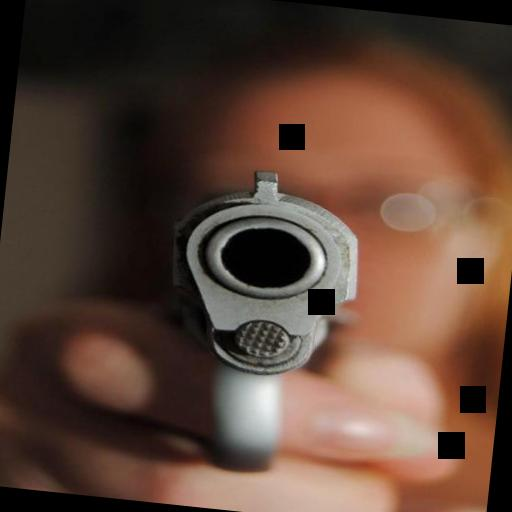Handgun: (122, 148, 384, 485)
